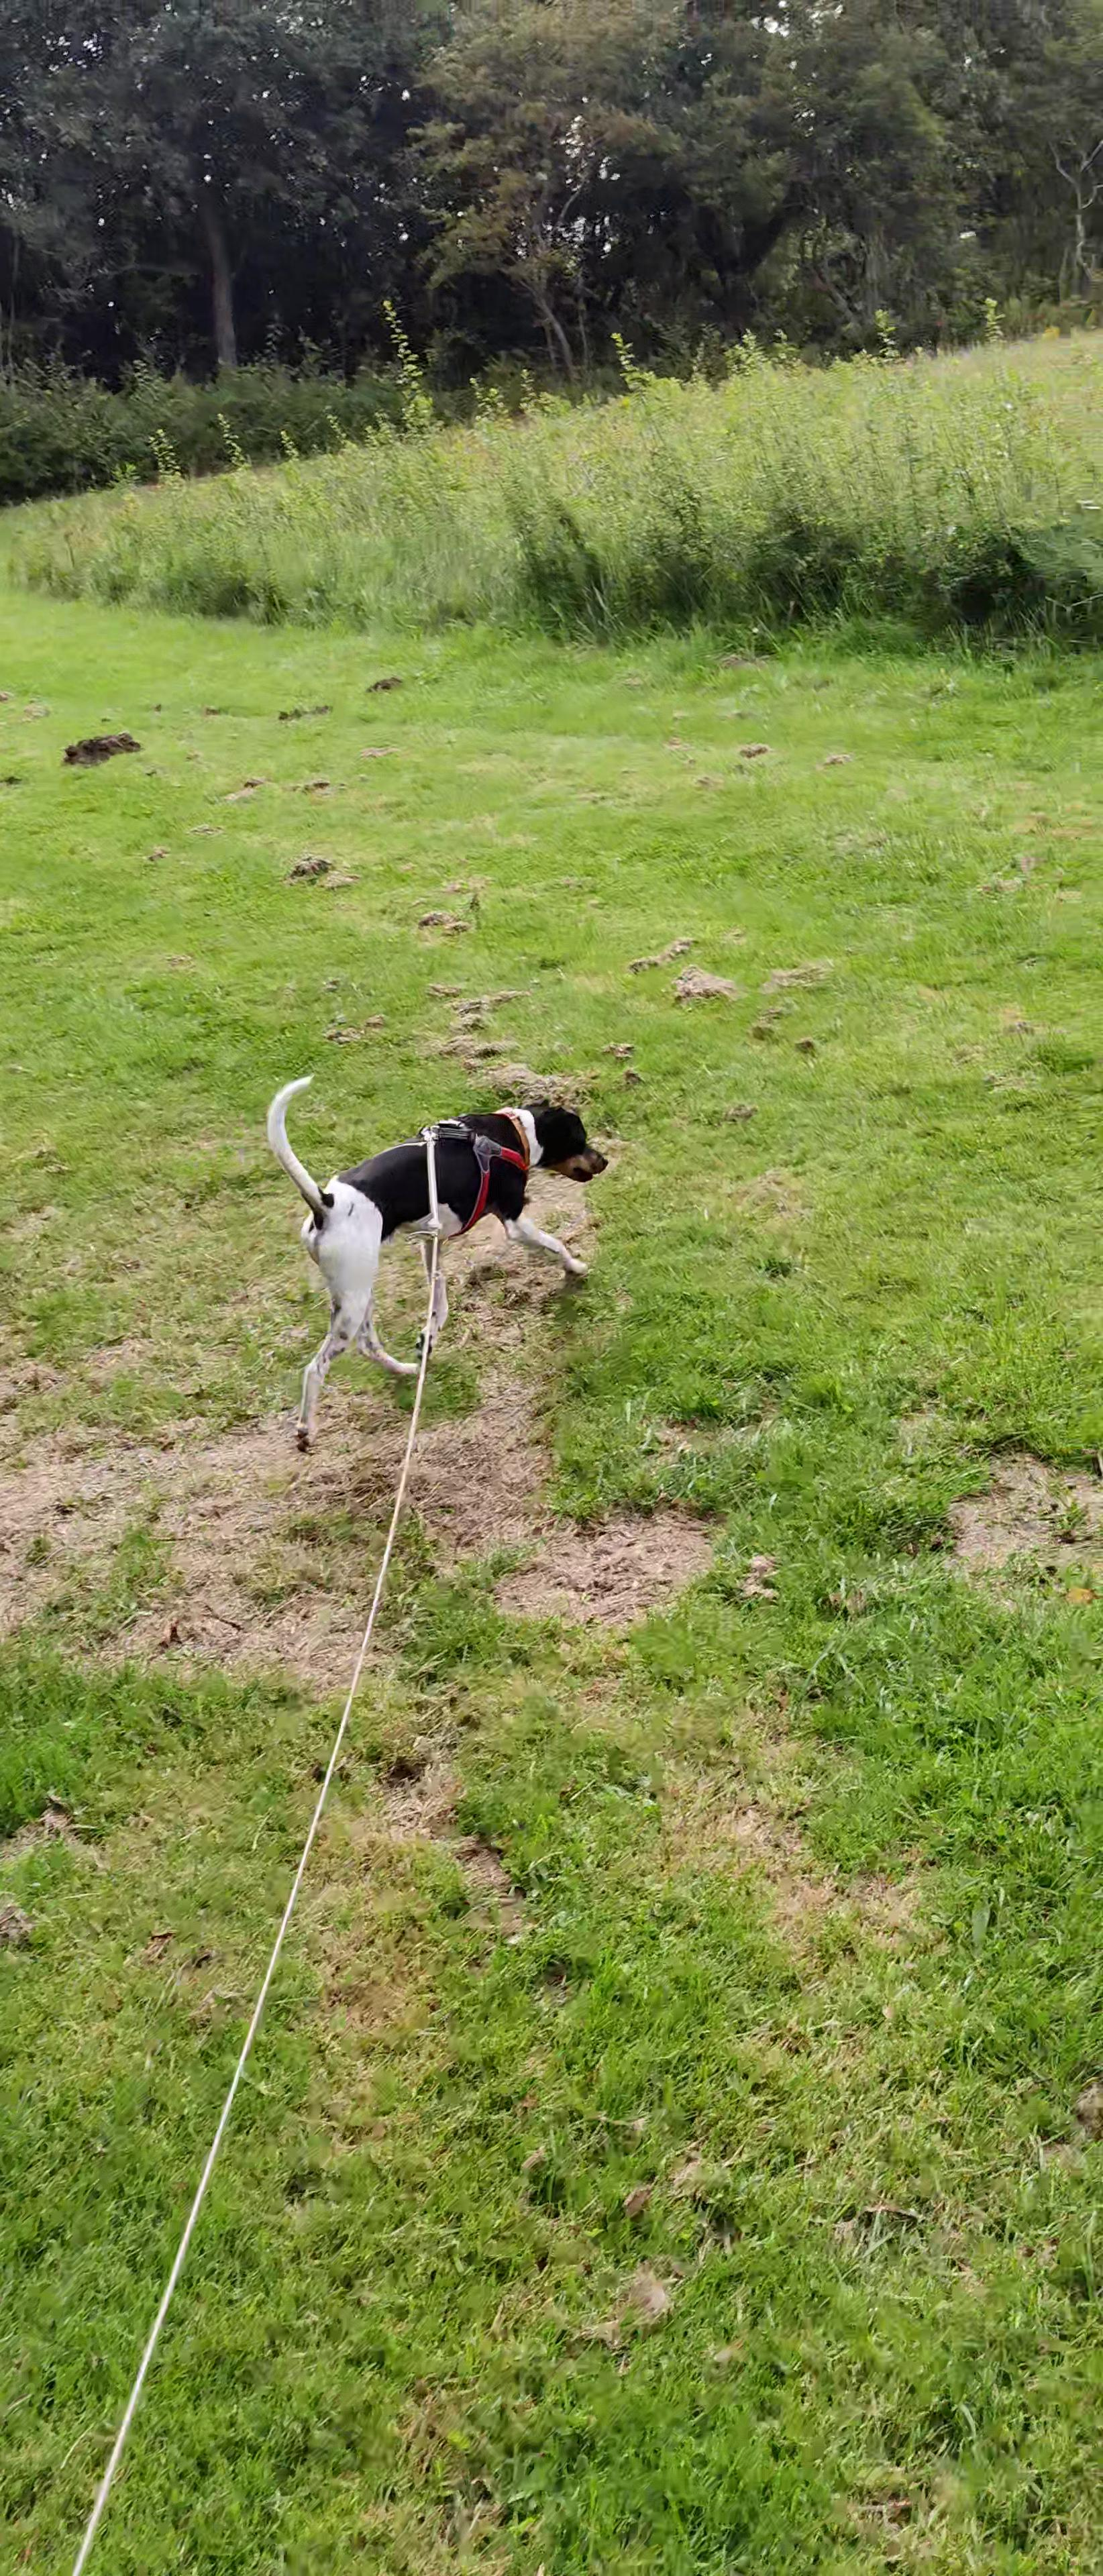Dog: (240, 1055, 621, 1456)
